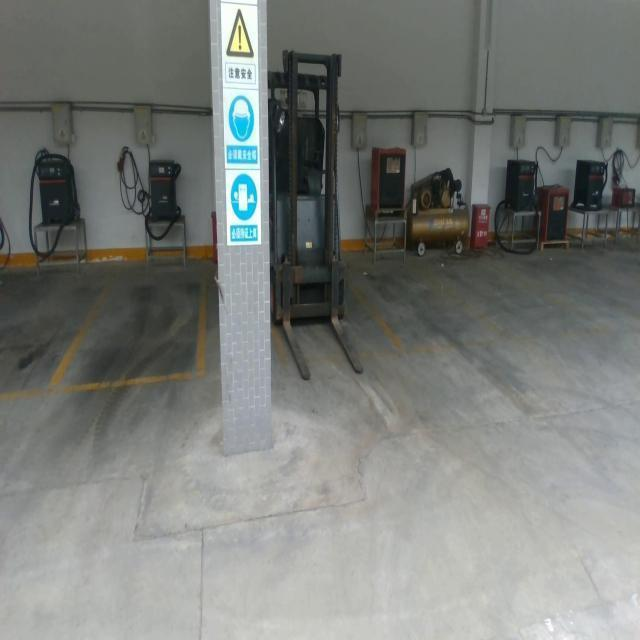forklift: (267, 47, 365, 380)
